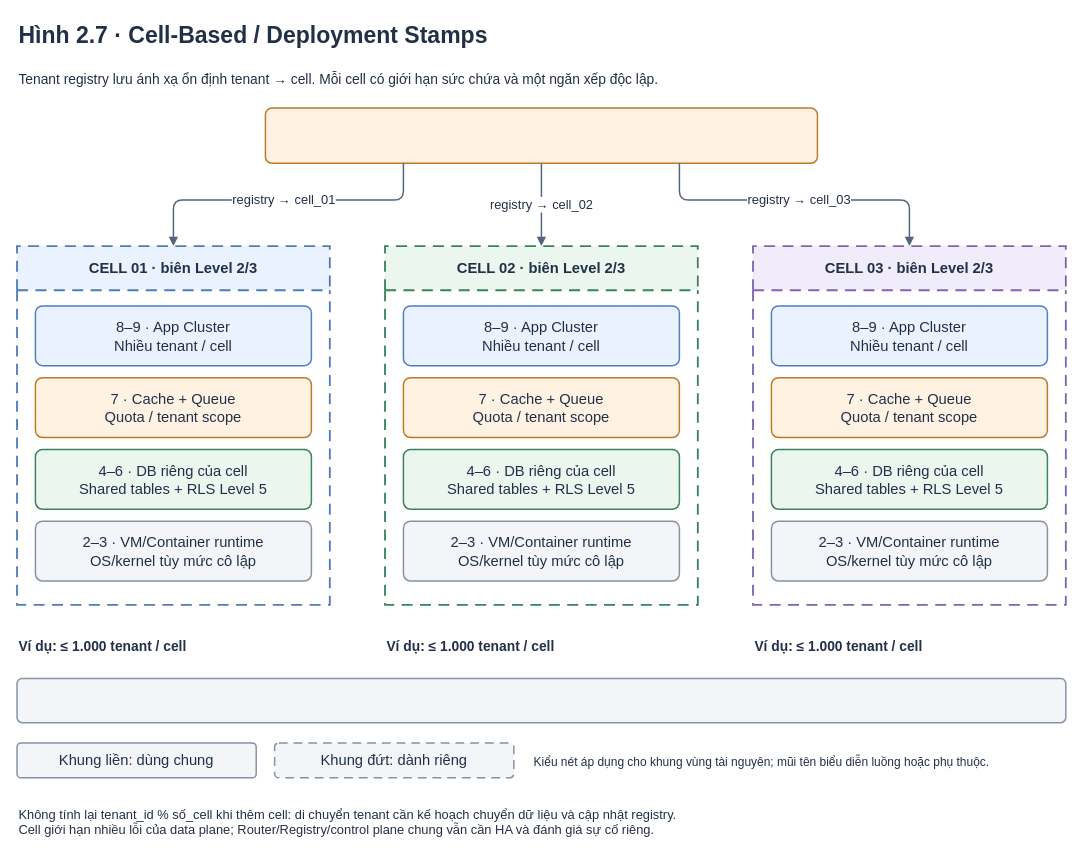
Some shapes in this 1082 by 866 pixel diagram are drawn without their labels. The centre of each missing label's shape, as x and y in pixels:
1 · Hardware có thể dùng chung; tách Cell không đồng nghĩa tách máy chủ vật lý.: point 541,700
Global Router → Tenant Registry (tenant_id → cell_id): point 541,135
